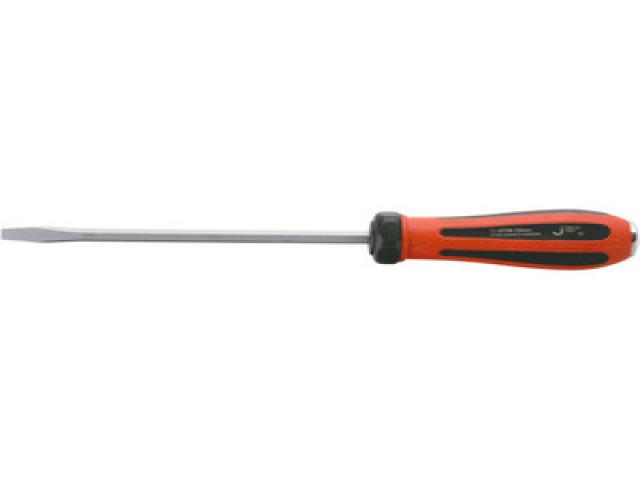Screwdriver: (1, 209, 636, 269)
